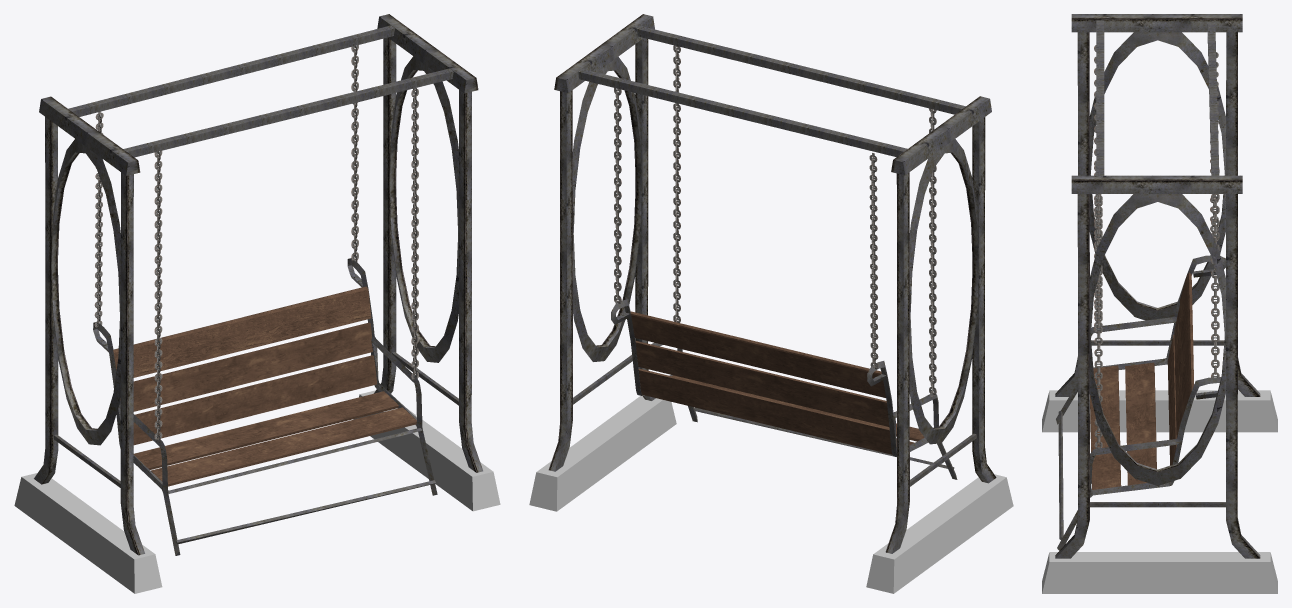
The model's file is M_Home_Garden_Swing1.fbx.
3 renders of one model, left to right at view 1: azimuth 30°, elevation 25°; view 2: azimuth 150°, elevation 25°; view 3: azimuth 270°, elevation 25°, orthographic. The views are drawn at different scales.
Visible parts, largest first — view 1: M_Home_Garden_Swing1; view 2: M_Home_Garden_Swing1; view 3: M_Home_Garden_Swing1.
Boxes of the visible parts, box(x1,y1,x2,y2) form: M_Home_Garden_Swing1: box(14, 14, 500, 593); M_Home_Garden_Swing1: box(529, 14, 1013, 593); M_Home_Garden_Swing1: box(1042, 14, 1277, 593).
Size of the model in its own units: 189 by 207 by 108.
